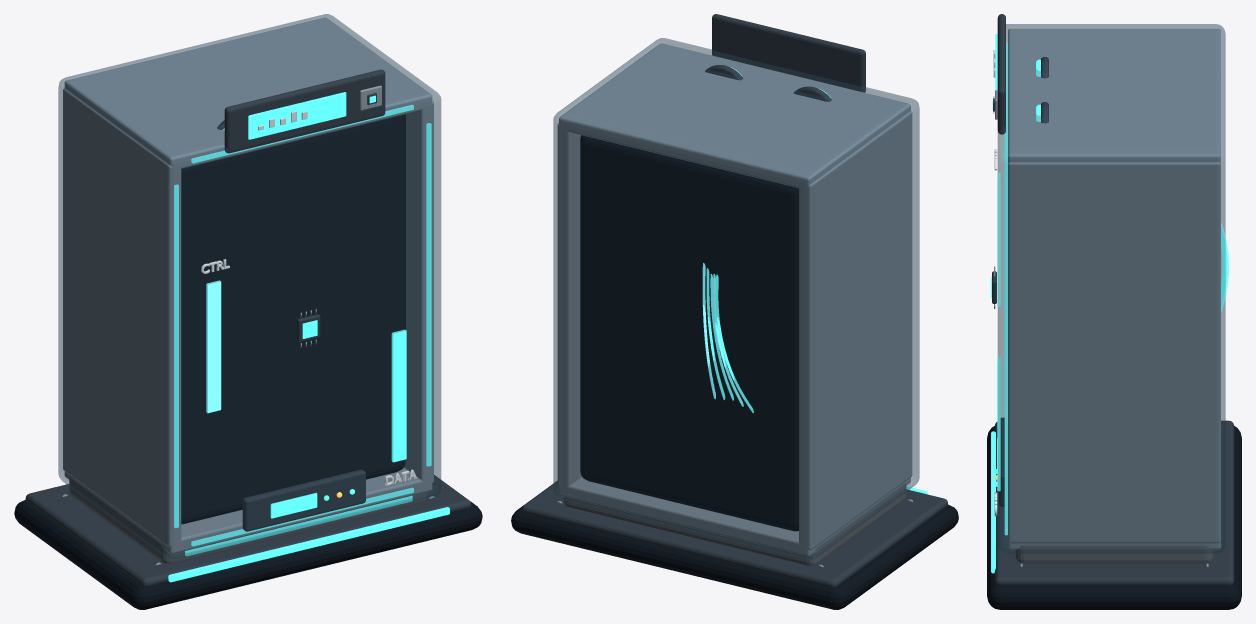
The model's file is Provider_EDC.glb.
3 renders of one model, left to right at view 1: azimuth 30°, elevation 25°; view 2: azimuth 150°, elevation 25°; view 3: azimuth 270°, elevation 25°, orthographic. The views are drawn at different scales.
Parts seen in each view (by area): view 1: Provider_EDC_GlassShell, Provider_EDC_Cabinet, Provider_EDC_Post_-0.98, Provider_EDC_Beam_2.34, Provider_EDC_Base0, Provider_EDC_Post_0.98, Provider_EDC_Base1, Provider_EDC_TopConsole, Provider_EDC_Mgmt, Provider_EDC_Beam_-0.5, Provider_EDC_Plinth, Provider_EDC_FrontGlow (+9 smaller); view 2: Provider_EDC_GlassShell, Provider_EDC_Cabinet, Provider_EDC_Post_-0.98, Provider_EDC_Beam_2.34, Provider_EDC_Base0, Provider_EDC_Base1, Provider_EDC_Post_0.98, Provider_EDC_TopConsole, Provider_EDC_Beam_-0.5, Provider_EDC_Plinth; view 3: Provider_EDC_GlassShell, Provider_EDC_Post_0.98, Provider_EDC_Beam_2.34, Provider_EDC_Base0, Provider_EDC_Base1, Provider_EDC_Plinth, Provider_EDC_GlowPost_0.98, Provider_EDC_TopConsole, Provider_EDC_FrontGlow, Provider_EDC_Beam_-0.5, Provider_EDC_ControlPlaneMarker, Provider_EDC_DataPlaneMarker (+1 smaller).
Boxes of the visible parts, x1,y1,x2,y2 form: Provider_EDC_GlassShell: (58, 14, 441, 559); Provider_EDC_Cabinet: (181, 114, 405, 524); Provider_EDC_Post_-0.98: (63, 88, 181, 547); Provider_EDC_Beam_2.34: (64, 17, 432, 169); Provider_EDC_Base0: (14, 499, 482, 609); Provider_EDC_Post_0.98: (404, 101, 433, 484); Provider_EDC_Base1: (25, 475, 471, 586); Provider_EDC_TopConsole: (224, 69, 385, 153); Provider_EDC_Mgmt: (242, 469, 365, 531); Provider_EDC_Beam_-0.5: (64, 467, 432, 554); Provider_EDC_Plinth: (69, 477, 427, 563); Provider_EDC_FrontGlow: (168, 507, 449, 582); Provider_EDC_GlassShell: (553, 38, 919, 559); Provider_EDC_Cabinet: (580, 135, 798, 531); Provider_EDC_Post_-0.98: (799, 111, 912, 550); Provider_EDC_Beam_2.34: (559, 43, 910, 188); Provider_EDC_Base0: (511, 504, 958, 609); Provider_EDC_Base1: (522, 481, 947, 587); Provider_EDC_Post_0.98: (557, 123, 581, 489); Provider_EDC_TopConsole: (712, 14, 865, 92); Provider_EDC_Beam_-0.5: (559, 477, 910, 556); Provider_EDC_Plinth: (563, 483, 906, 565); Provider_EDC_GlassShell: (997, 24, 1225, 553); Provider_EDC_Post_0.98: (1008, 162, 1220, 543); Provider_EDC_Beam_2.34: (1008, 28, 1220, 162); Provider_EDC_Base0: (987, 426, 1241, 609); Provider_EDC_Base1: (994, 420, 1234, 585); Provider_EDC_Plinth: (1015, 544, 1213, 563); Provider_EDC_GlowPost_0.98: (1004, 179, 1007, 521); Provider_EDC_TopConsole: (997, 14, 1005, 134); Provider_EDC_FrontGlow: (991, 431, 995, 573); Provider_EDC_Beam_-0.5: (1008, 542, 1220, 549); Provider_EDC_ControlPlaneMarker: (997, 172, 1000, 307); Provider_EDC_DataPlaneMarker: (997, 356, 1000, 491).
Size of the model in its own units: 2.72 by 3.56 by 1.72.
